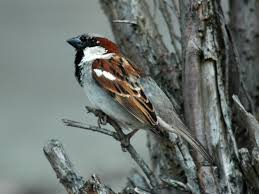hsparrow: (58, 29, 224, 165)
